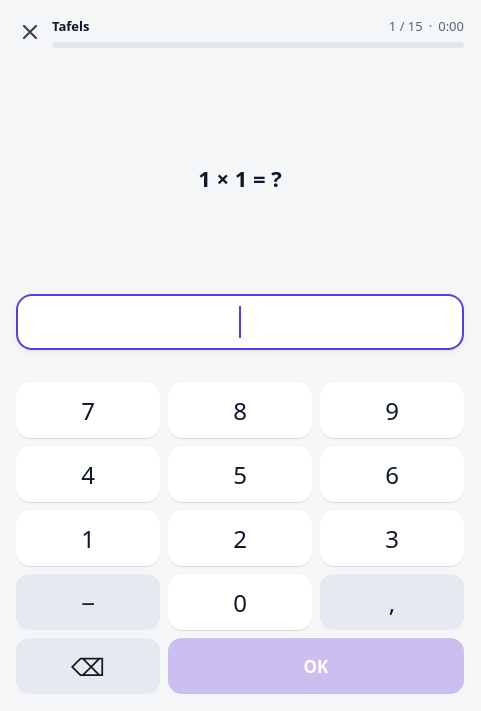
it: PlayScreen › session header › advances the counter and the bar after a correct answer
Click the button "1": (88, 538) [16,510,160,566]
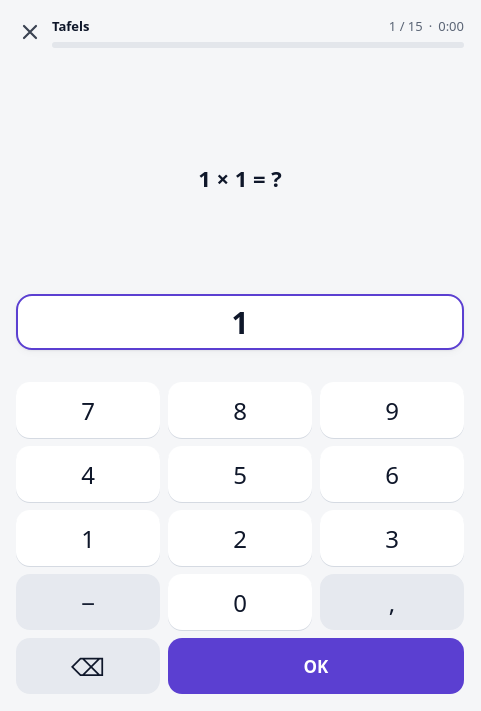
Click the button "OK": (316, 666) [168,638,464,694]
Wait 600 ms
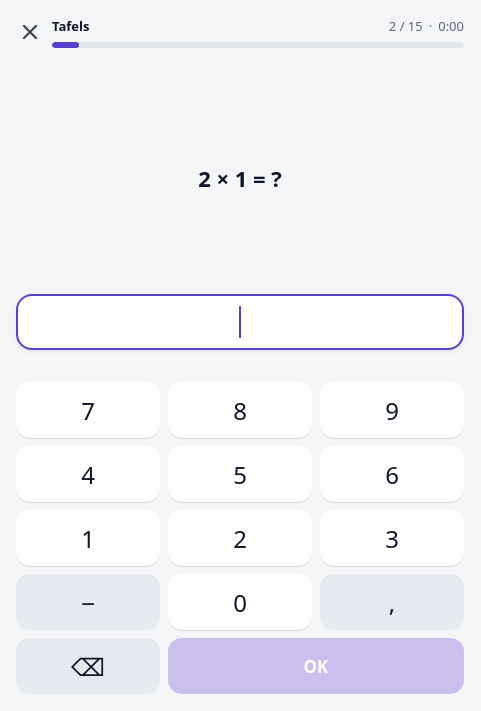
Result: the text "2 / 15" is shown at [389,16,423,36]
